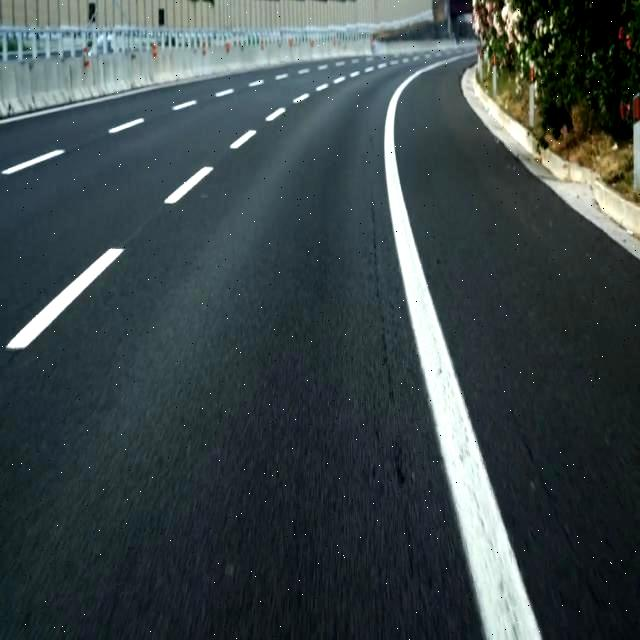lane: (384, 56, 541, 640), (6, 249, 124, 350), (164, 168, 214, 204), (1, 150, 65, 174), (109, 118, 144, 134), (230, 130, 256, 149), (265, 108, 286, 121)
road: (0, 60, 483, 639), (395, 60, 639, 639)
